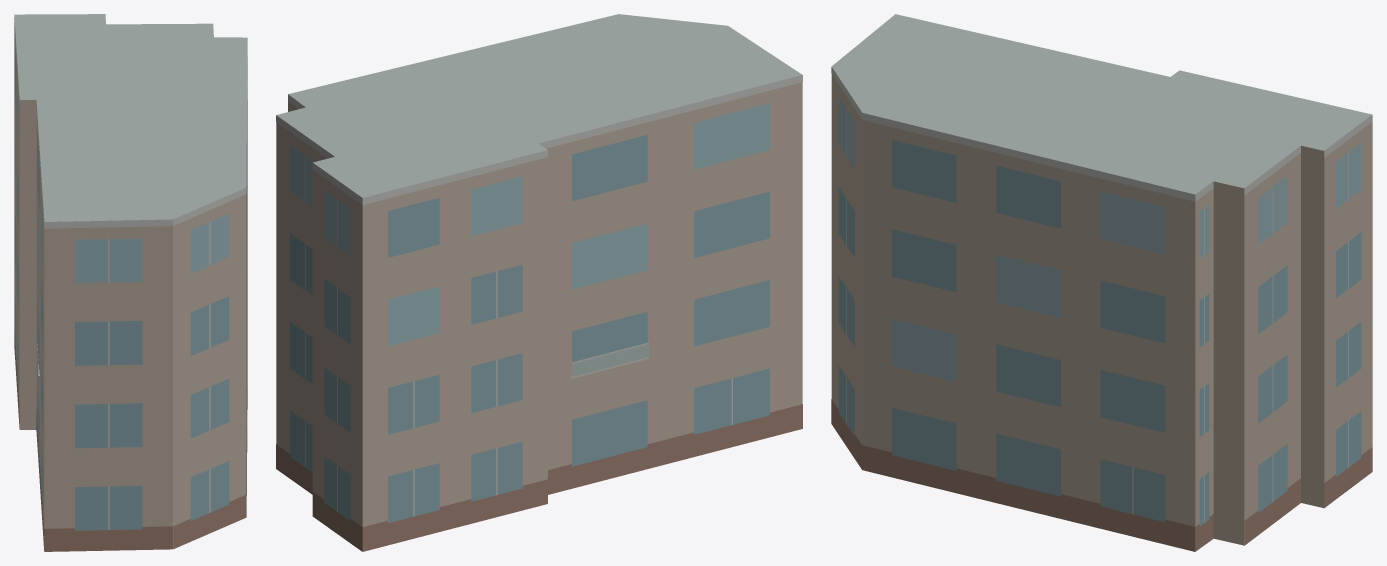
The model's file is survey-upis-33012086.glb.
3 renders of one model, left to right at view 1: azimuth 30°, elevation 25°; view 2: azimuth 150°, elevation 25°; view 3: azimuth 270°, elevation 25°, orthographic. The views are drawn at different scales.
Parts seen in each view (by area): view 1: survey-upis-33012086.tmp; view 2: survey-upis-33012086.tmp; view 3: survey-upis-33012086.tmp.
Boxes of the visible parts, x1,y1,x2,y2 form: survey-upis-33012086.tmp: (14, 14, 247, 551); survey-upis-33012086.tmp: (276, 14, 802, 551); survey-upis-33012086.tmp: (831, 14, 1372, 551).
Bounding box in the file's own units: 13.23 × 12.2 × 16.75.
